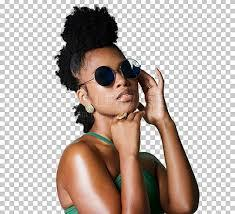sunglasses: (91, 55, 148, 89)
